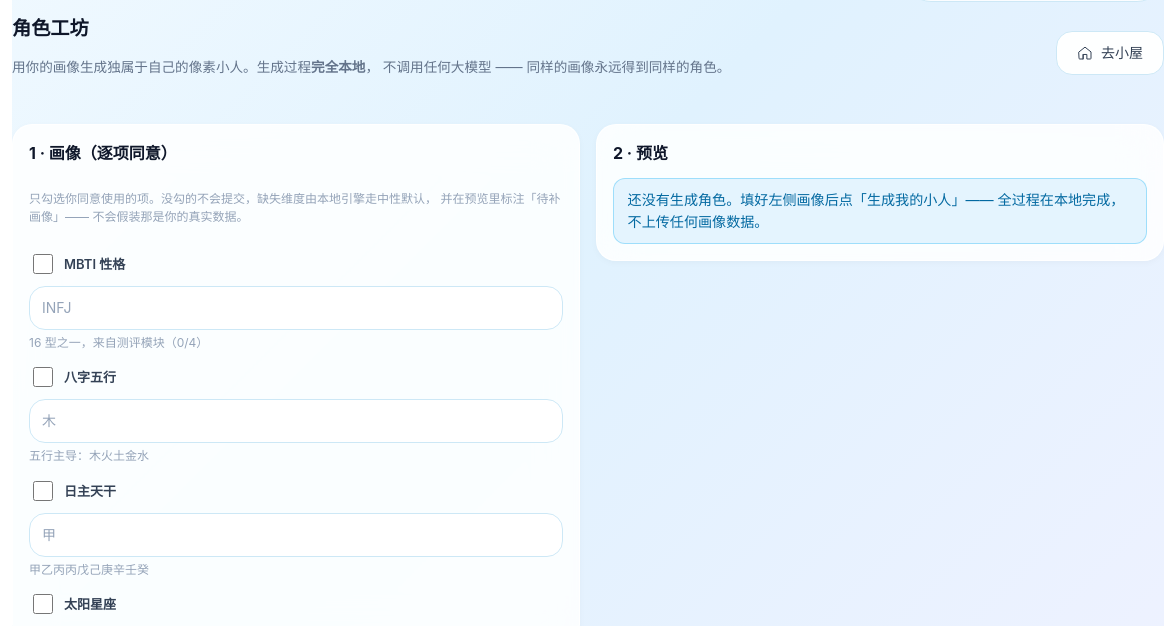
Test: W11 · 逐项同意：只提交勾选项 › 勾上后输入框才可编辑
The width and height of the screenshot is (1176, 626).
Expected: the text "还没有生成角色。填好左侧画像后点「生成我的小人」—— 全过程在本地完成，不上传任何画像数据。" is shown, [613, 178, 1147, 244]
Click the checkbox labelled "太阳星座": [43, 604] box [33, 594, 53, 614]
(page scrolled)
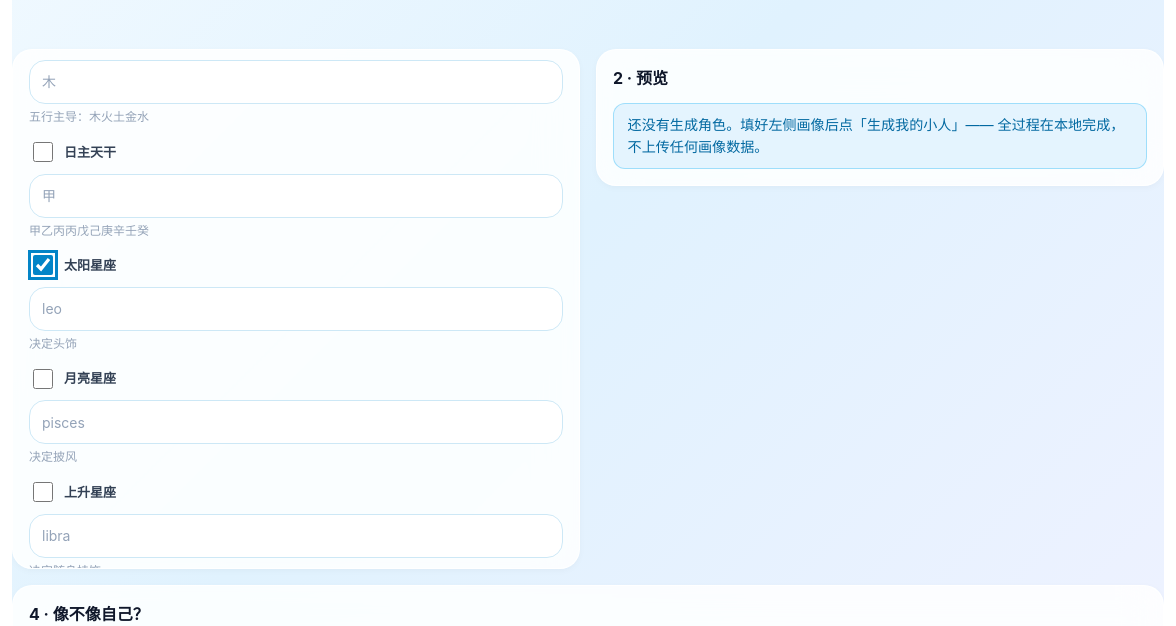
Expected: the field with placeholder "leo" is enabled, [29, 287, 563, 331]
